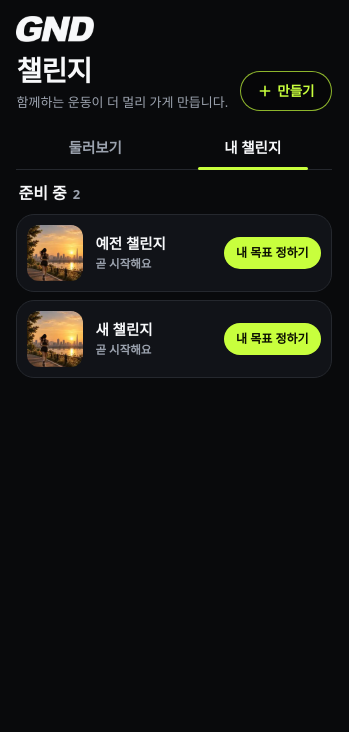
Test: ChallengePage 목록 › 카드를 누르면 상세(?open=)가 열리고, ←로 목록에 돌아온다
The width and height of the screenshot is (349, 732).
Click the button named "예전 챌린지 열기". click: (56, 253)
box: [28, 225, 84, 281]
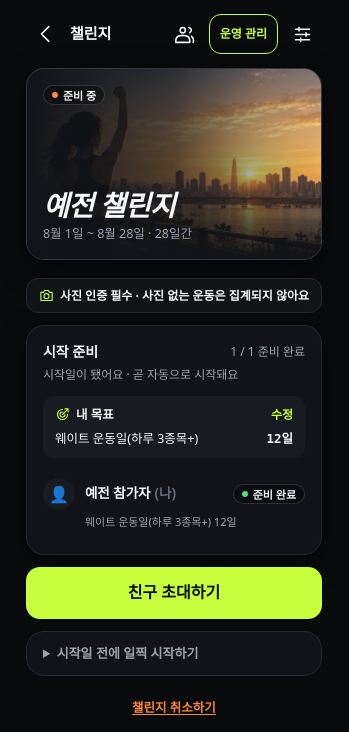
Check: the text "예전 참가자" is shown, box [85, 484, 150, 502]
Click the button named "챌린지 목록으로". click: (46, 34)
box: [26, 14, 66, 54]
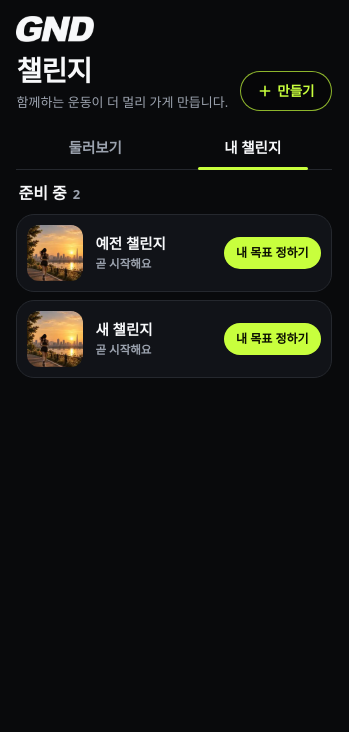
Check: the element "준비 중" is shown, box [16, 182, 332, 378]
